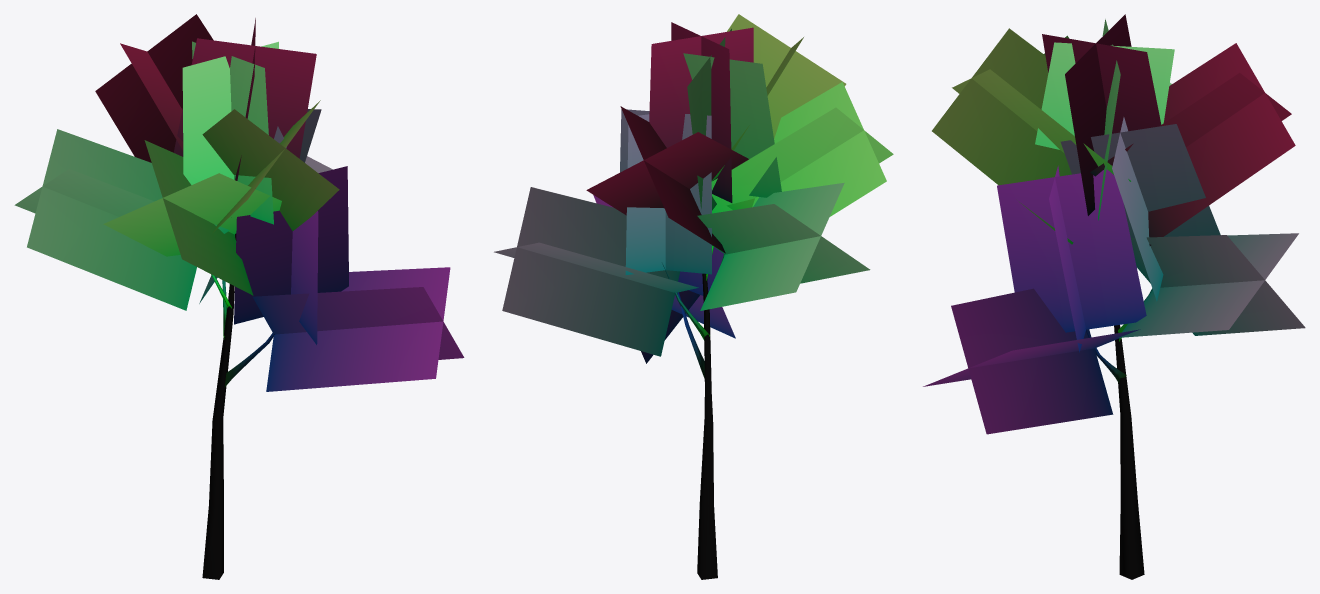
File: SuperTree_27.fbx
The picture shows the model from 3 angles, left to right: view 1: azimuth 30°, elevation 25°; view 2: azimuth 150°, elevation 25°; view 3: azimuth 270°, elevation 25°; orthographic projection. The views are drawn at different scales.
Visible parts, largest first — view 1: SuperTree_27; view 2: SuperTree_27; view 3: SuperTree_27.
Boxes of the visible parts, bbox=[...] form: SuperTree_27: bbox=[14, 14, 464, 579]; SuperTree_27: bbox=[494, 14, 893, 579]; SuperTree_27: bbox=[923, 14, 1305, 579].
Bounding box in the file's own units: 584 × 851 × 537.
